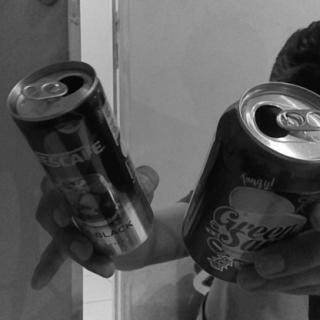alumunium_can: (181, 79, 320, 285), (7, 59, 154, 250)
